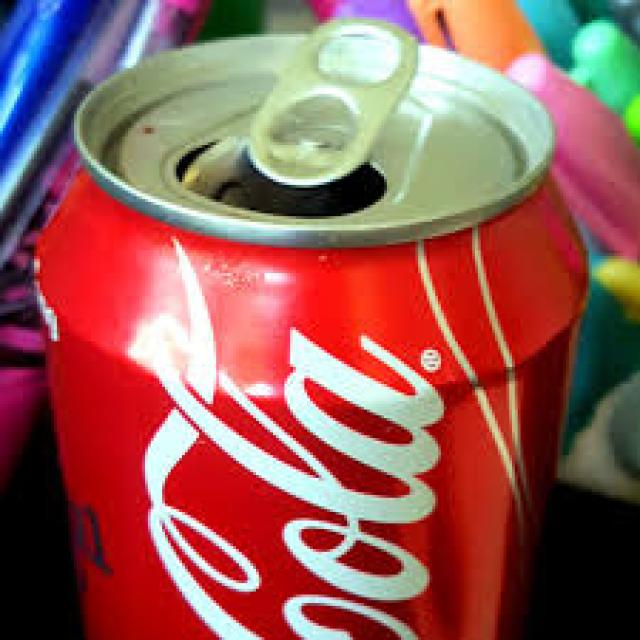Cans: (23, 14, 597, 640)
